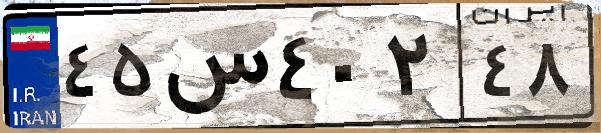0: (330, 28, 385, 110)
2: (385, 28, 445, 110)
4: (270, 28, 330, 110), (57, 26, 110, 100), (475, 38, 525, 113)
5: (110, 28, 158, 98)
8: (525, 38, 570, 115)
س: (158, 20, 270, 120)
